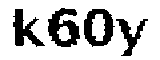0: (83, 6, 115, 47)
6: (46, 4, 80, 49)
k: (11, 5, 47, 49)
y: (116, 15, 149, 59)
